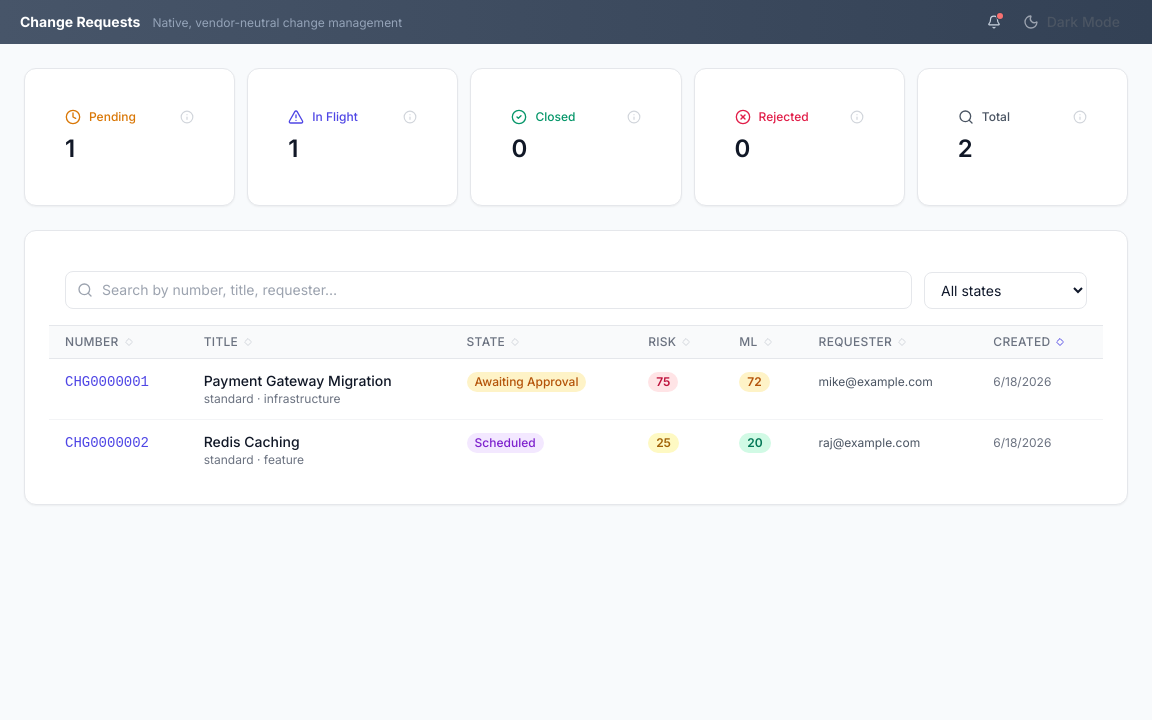
Changes List Page › filters by search term
This screenshot has width=1152, height=720.
Expected: the link "CHG0000001" is shown, [65,374,149,390]
Type "Payment" into the field with placeholder "Search by number, title, requester…" at (488, 290), box [65,271,912,309]
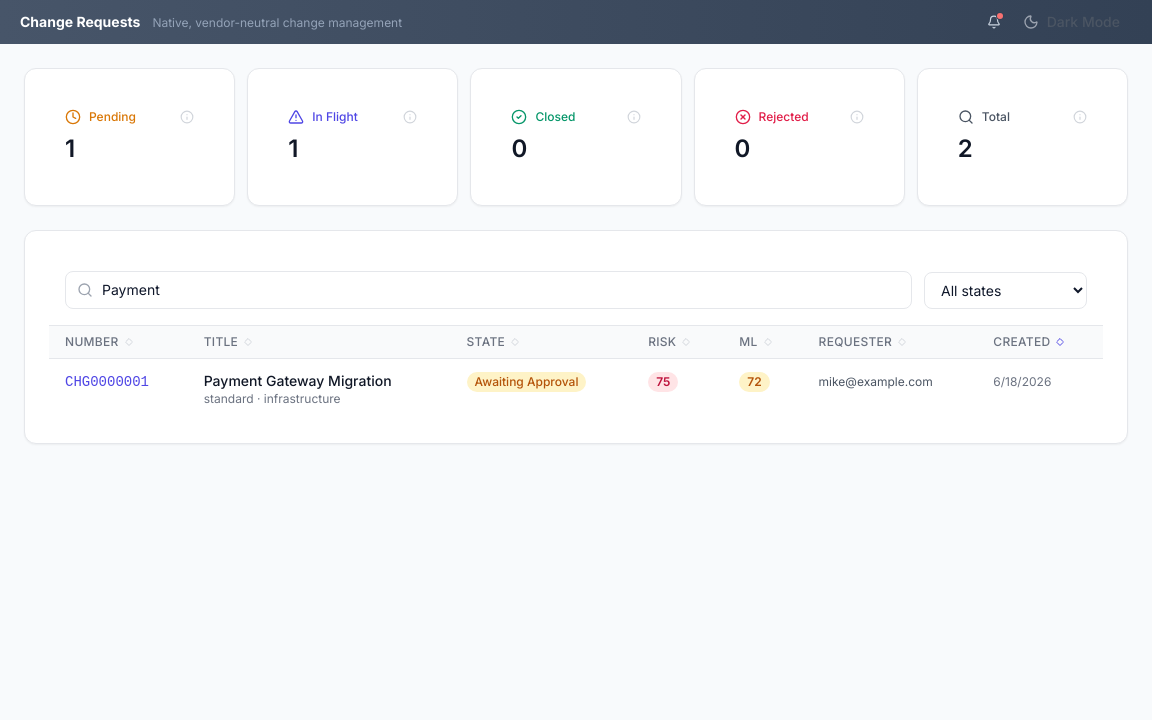
Expected: the text "Payment Gateway Migration" is shown, [204,372,392,389]
Expected: the text "Redis Caching" is gone
